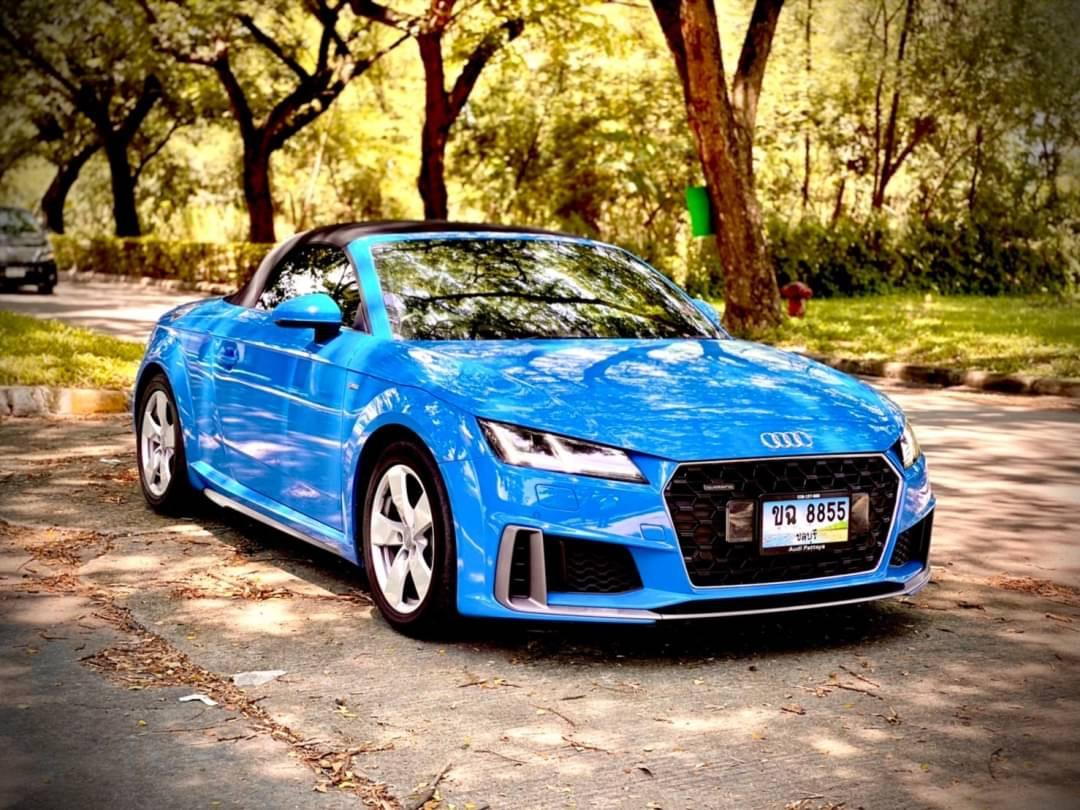license-plate: (756, 490, 855, 555)
